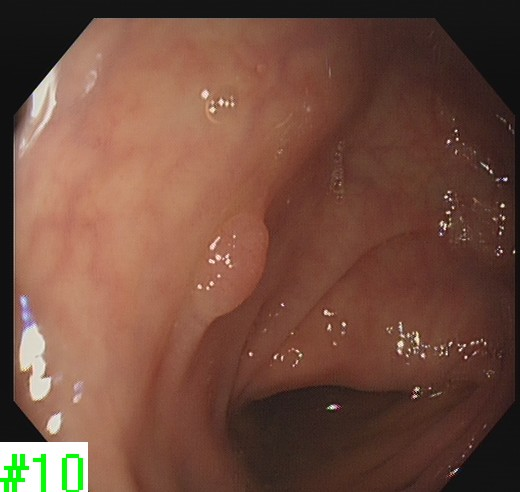adenoma: (187, 210, 271, 321)
